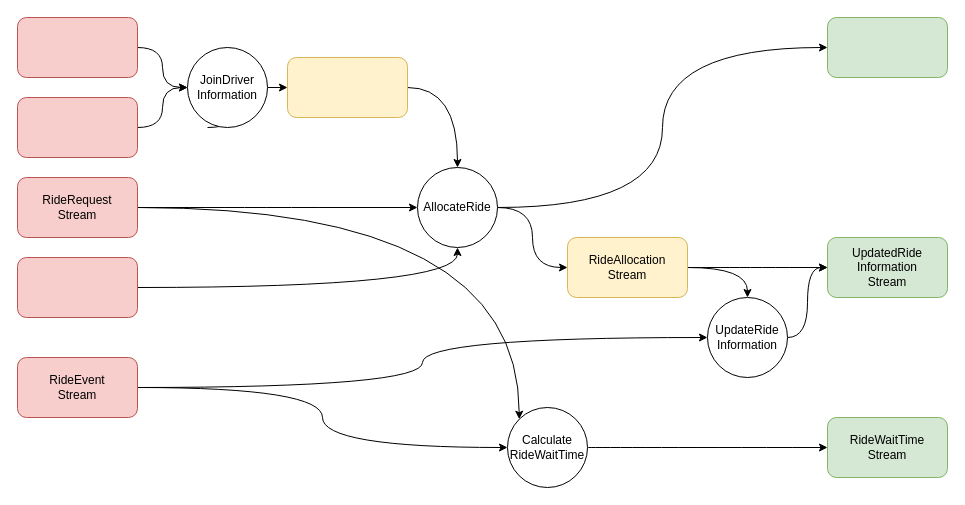
Image size: 965x505. Some labels were removed from this diagram. The shapes that lost their labels are listed below. From the top down, each one's box as (x1, y1, x2, y2) in pixels, then its label:
(16, 16, 138, 78): DriverStatus Stream
(826, 16, 948, 78): DriverAllocation Stream
(286, 56, 408, 118): DriverInformation Sream
(16, 96, 138, 158): DriverLocation Stream
(16, 256, 138, 318): CurrentRide Information Stream
